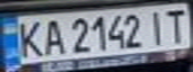1: (87, 12, 109, 51)
2: (121, 10, 148, 48), (66, 15, 90, 54)
4: (106, 11, 127, 51)
A: (39, 16, 66, 56)
I: (145, 7, 169, 46)
K: (12, 17, 48, 59)
T: (160, 6, 190, 44)
